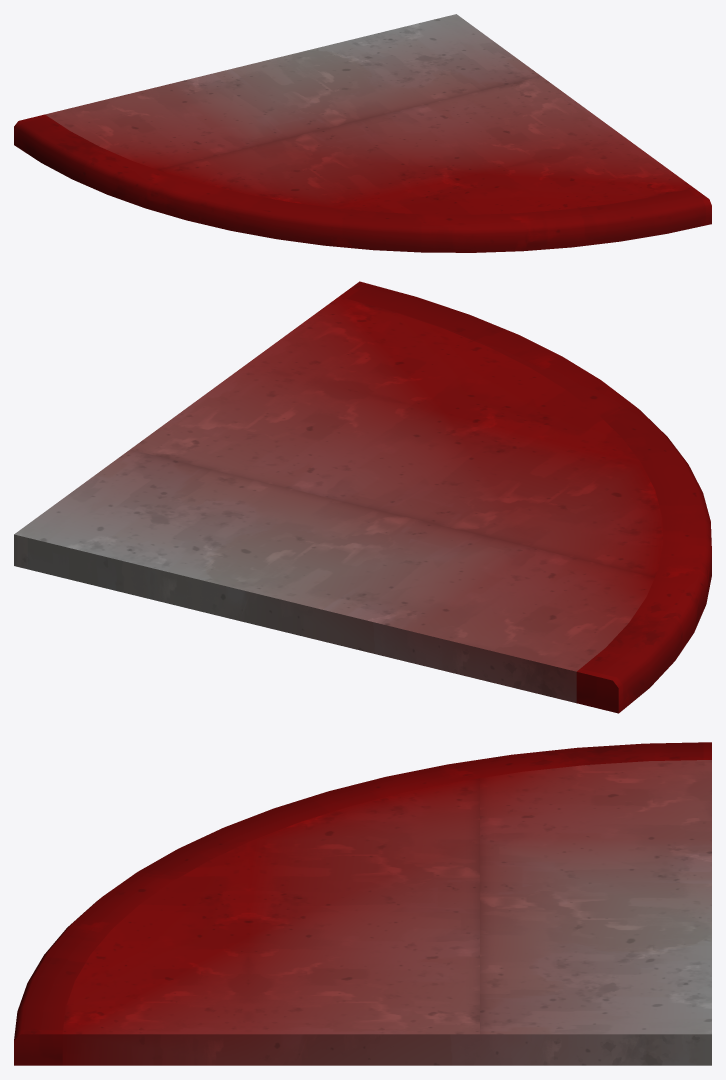
Rendered from Sidewalk_Corner_Round_3m.gltf.
The picture shows the model from 3 angles, top to bottom: view 1: azimuth 30°, elevation 25°; view 2: azimuth 150°, elevation 25°; view 3: azimuth 270°, elevation 25°; orthographic projection. The views are drawn at different scales.
Visible parts, largest first — view 1: Sidewalk_Corner_Round_3m; view 2: Sidewalk_Corner_Round_3m; view 3: Sidewalk_Corner_Round_3m.
Part boxes in pixels (bbox=[...]): Sidewalk_Corner_Round_3m: bbox=[14, 14, 711, 252]; Sidewalk_Corner_Round_3m: bbox=[14, 281, 711, 713]; Sidewalk_Corner_Round_3m: bbox=[14, 742, 711, 1065].
Bounding box in the file's own units: 3.01 × 0.15 × 3.01.
1 material, 1 textured.
